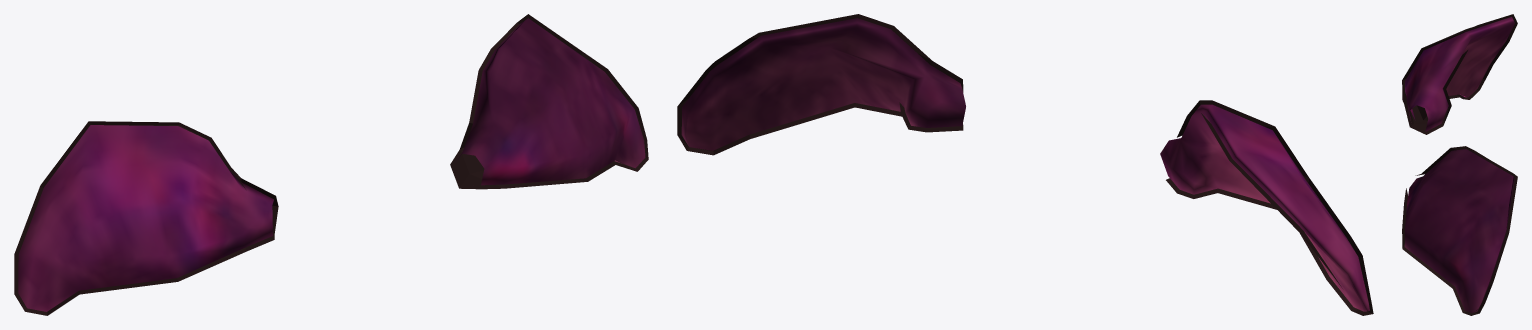
File: entity301204.gltf
The picture shows the model from 3 angles, left to right: view 1: azimuth 30°, elevation 25°; view 2: azimuth 150°, elevation 25°; view 3: azimuth 270°, elevation 25°; orthographic projection. The views are drawn at different scales.
Visible parts, largest first — view 1: node_mesh_pig_02; view 2: node_mesh_pig_02; view 3: node_mesh_pig_02.
Part boxes in pixels (x1,y1,x2,y2): node_mesh_pig_02: [14, 14, 648, 315]; node_mesh_pig_02: [677, 14, 1373, 315]; node_mesh_pig_02: [1402, 14, 1517, 315].
Size of the model in its own units: 1.13 by 0.273 by 0.2423.
2 materials, 1 textured.
